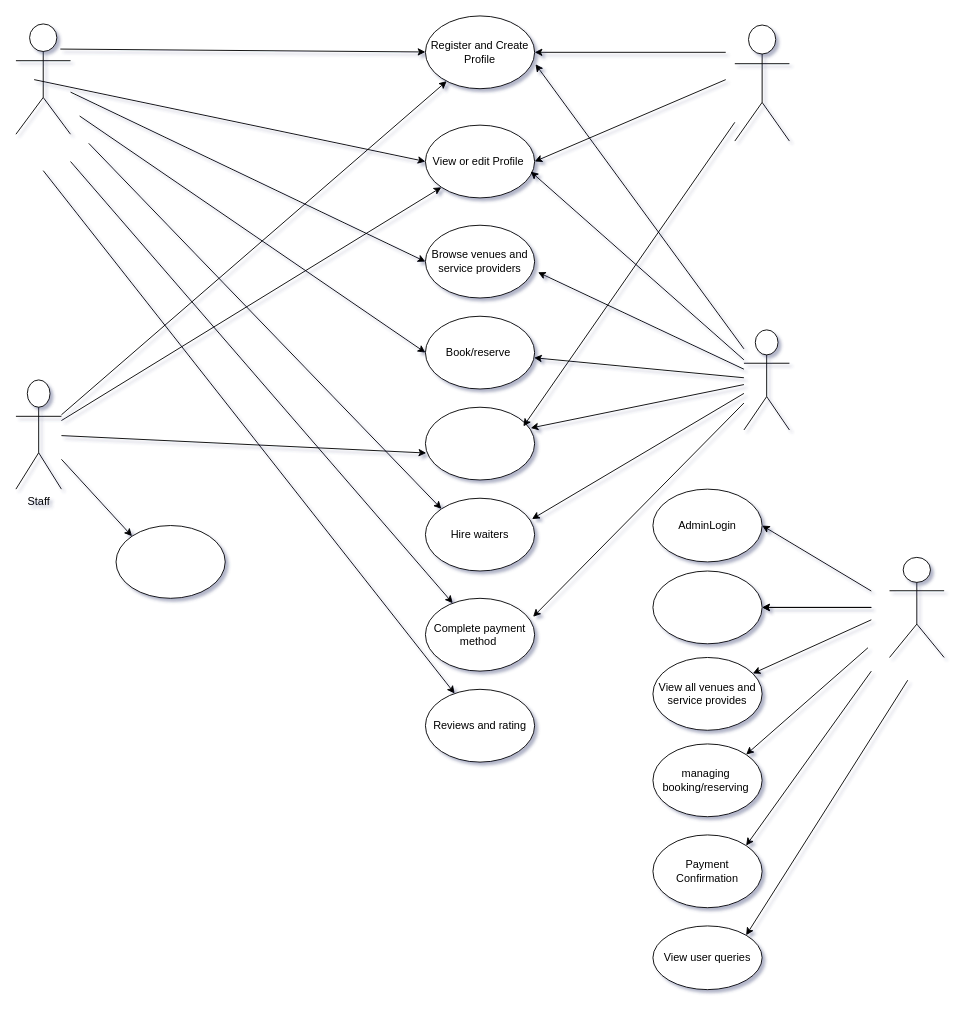
This 966x1011 diagram has some shape labels left out. The box of each missing label's shape, as (x1, y1, x2, y2) in pixels:
Admin: (889, 556, 944, 657)
Customer: (15, 23, 71, 134)
Event Businesses: (743, 329, 789, 430)
list Services and pricing: (425, 406, 535, 480)
Manage user profile: (652, 570, 762, 644)
Receive Job offer: (115, 525, 225, 598)
Vendor: (734, 24, 789, 141)
